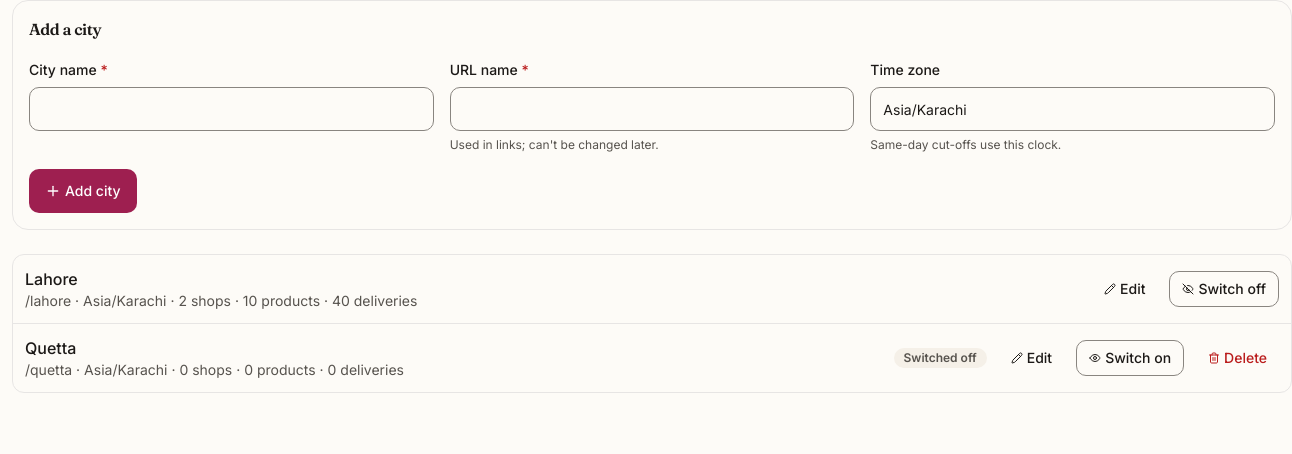
Test: CityManager › lists cities with usage and only offers delete for unused ones
Expected: the text "Lahore" is shown, left=25, top=269, right=78, bottom=289
Expected: the text "2 shops · 10 products · 40 deliveries" is shown, left=25, top=292, right=417, bottom=309
Click the button with aria-label "Delete Quetta".
click(1238, 358)  # box left=1196, top=340, right=1279, bottom=376
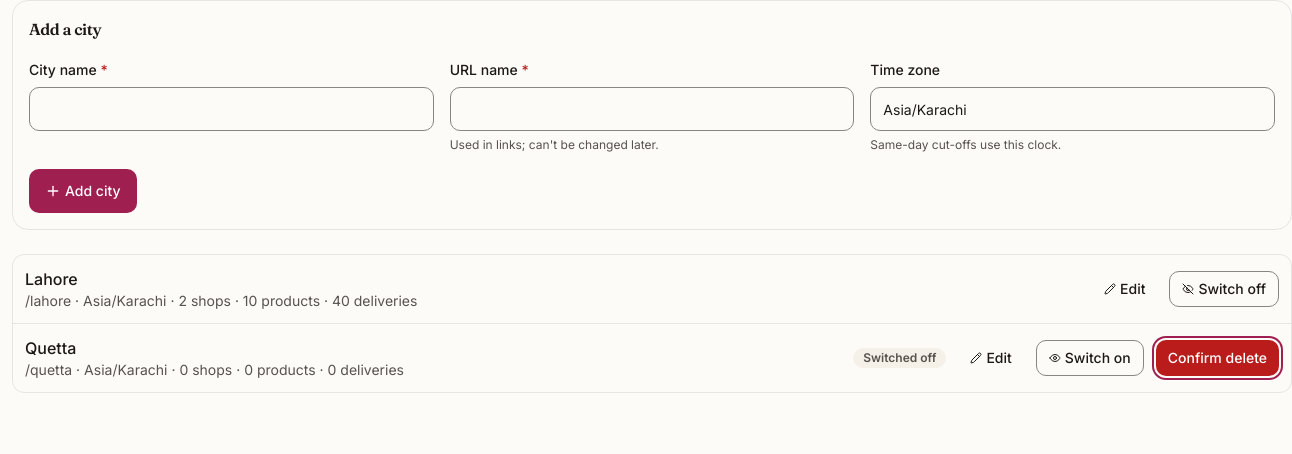
Click the button with aria-label "Confirm delete Quetta".
click(1217, 358)  # box left=1156, top=340, right=1279, bottom=376
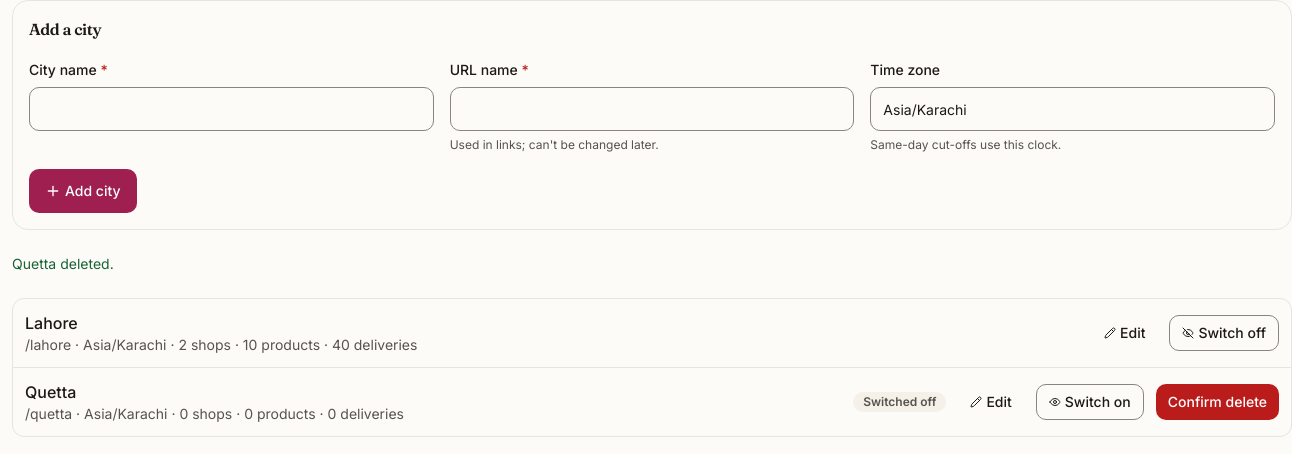
Result: the text "Quetta deleted." is shown at left=12, top=255, right=114, bottom=272
